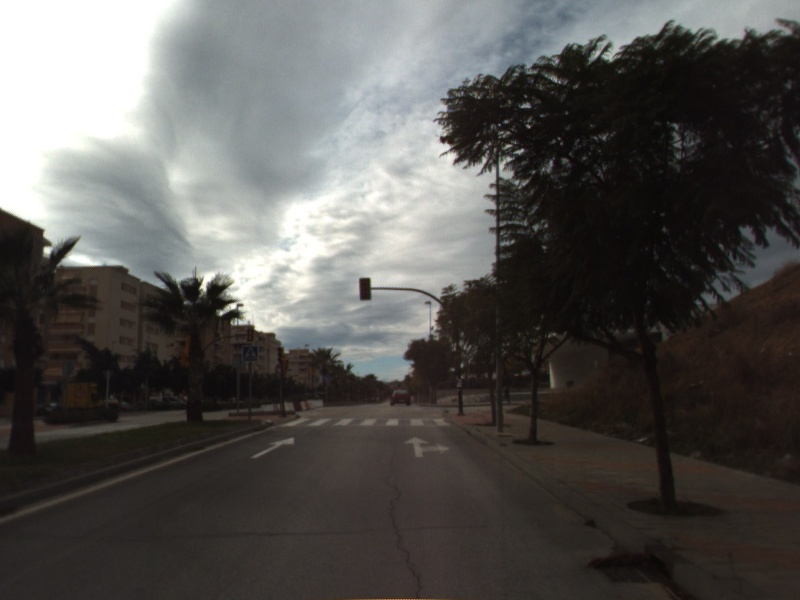STRAIGHT: (249, 435, 296, 460)
STRAIGHT_RIGHT: (402, 435, 451, 459)
